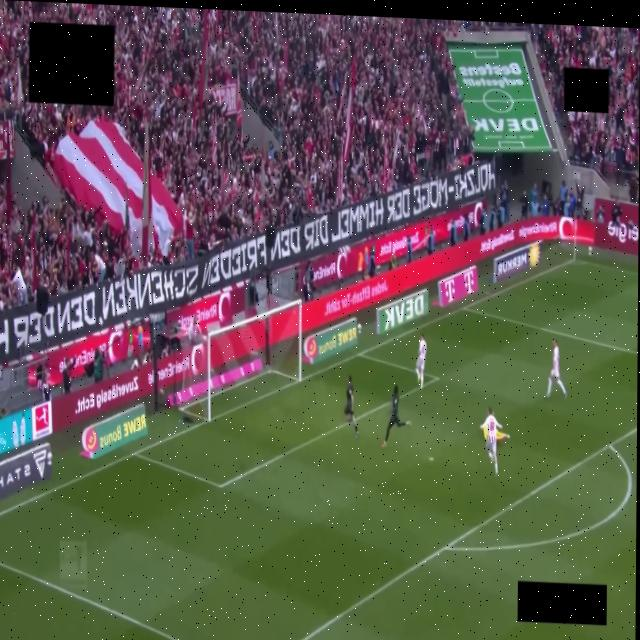player: (381, 386, 410, 447), (480, 407, 501, 475), (546, 340, 566, 398), (344, 376, 357, 437), (415, 334, 426, 388), (496, 430, 509, 441)
